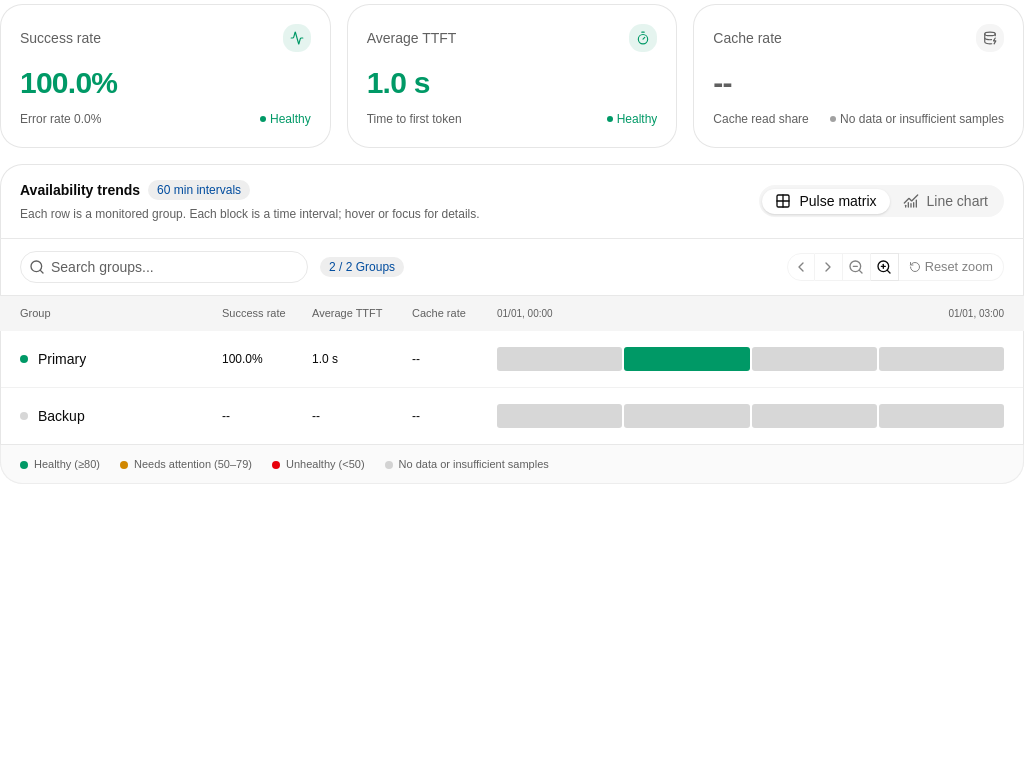
channel monitoring overview › line chart keeps error-only intervals even when no cache requests were recorded
Step 1. Click the tab "Line chart" → (945, 201), box [890,188,1001,214]
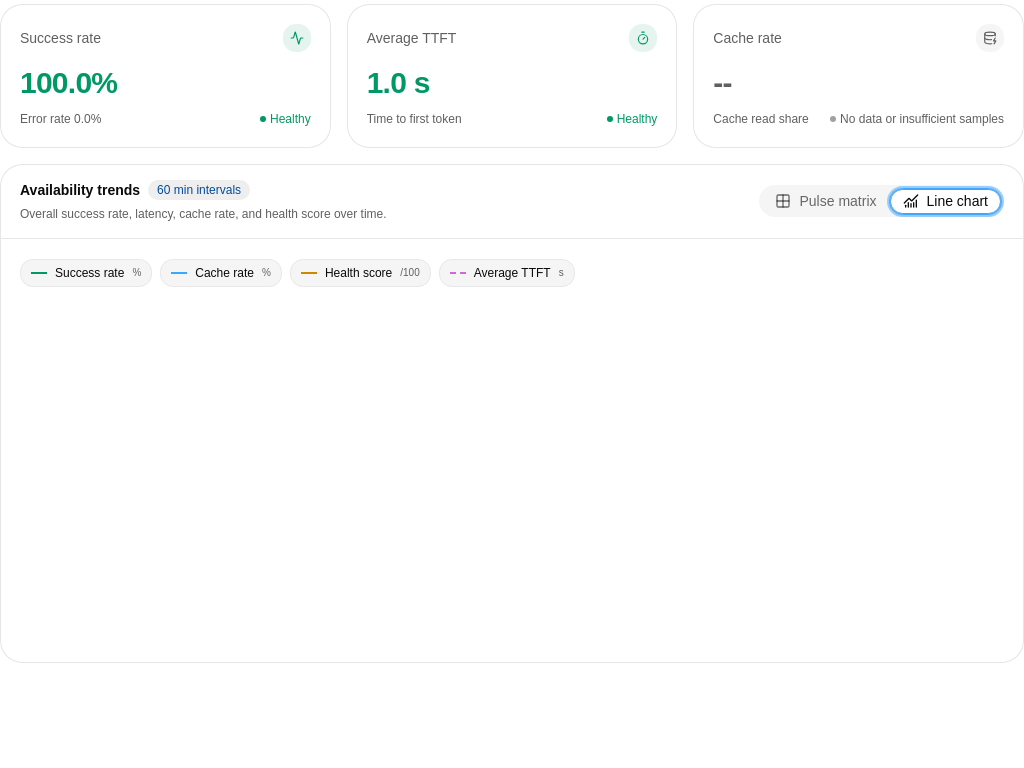
Expected: the element named "Overall channel trend" is shown, [20,259,575,287]
